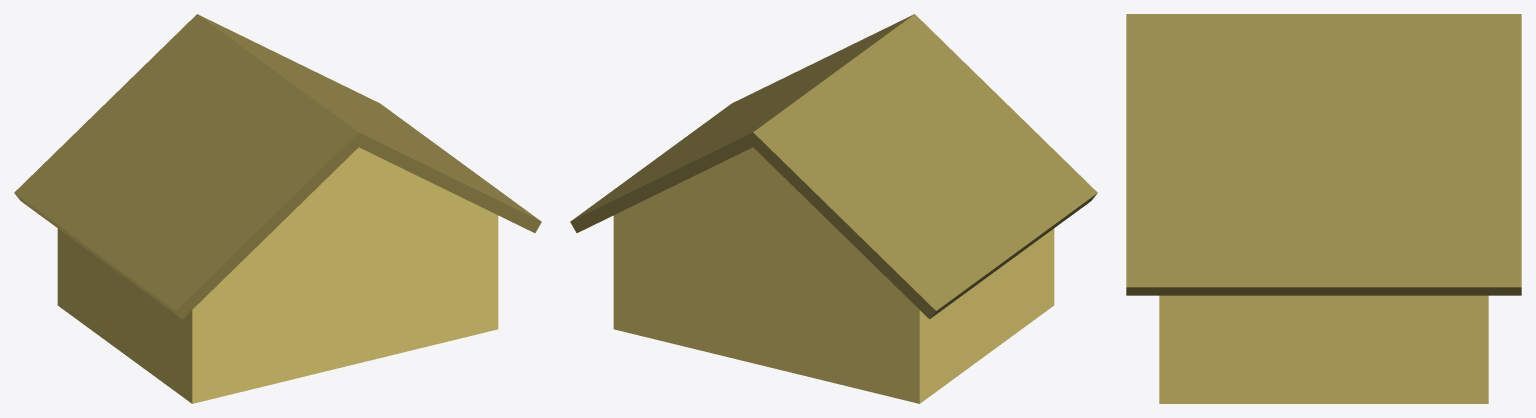
File: result.glb
3 views of the same model, side by side, from view 1: azimuth 30°, elevation 25°; view 2: azimuth 150°, elevation 25°; view 3: azimuth 270°, elevation 25° (orthographic). The views are drawn at different scales.
Parts seen in each view (by area): view 1: b0ee82e3-ebc5-4927-81f7-d64484b8bd99__undefined (×2), 5f65eb55-0ba5-44d5-ba26-b90dc81c309a__undefined; view 2: b0ee82e3-ebc5-4927-81f7-d64484b8bd99__undefined (×2), 5f65eb55-0ba5-44d5-ba26-b90dc81c309a__undefined; view 3: b0ee82e3-ebc5-4927-81f7-d64484b8bd99__undefined, 5f65eb55-0ba5-44d5-ba26-b90dc81c309a__undefined.
Part boxes in pixels (box(x1,y1,x2,y2)): b0ee82e3-ebc5-4927-81f7-d64484b8bd99__undefined (×2): box(14, 14, 541, 319); 5f65eb55-0ba5-44d5-ba26-b90dc81c309a__undefined: box(57, 147, 498, 403); b0ee82e3-ebc5-4927-81f7-d64484b8bd99__undefined (×2): box(570, 14, 1097, 319); 5f65eb55-0ba5-44d5-ba26-b90dc81c309a__undefined: box(613, 147, 1054, 403); b0ee82e3-ebc5-4927-81f7-d64484b8bd99__undefined: box(1126, 14, 1521, 295); 5f65eb55-0ba5-44d5-ba26-b90dc81c309a__undefined: box(1159, 295, 1488, 403).
Size of the model in its own units: 785 by 500 by 600.
